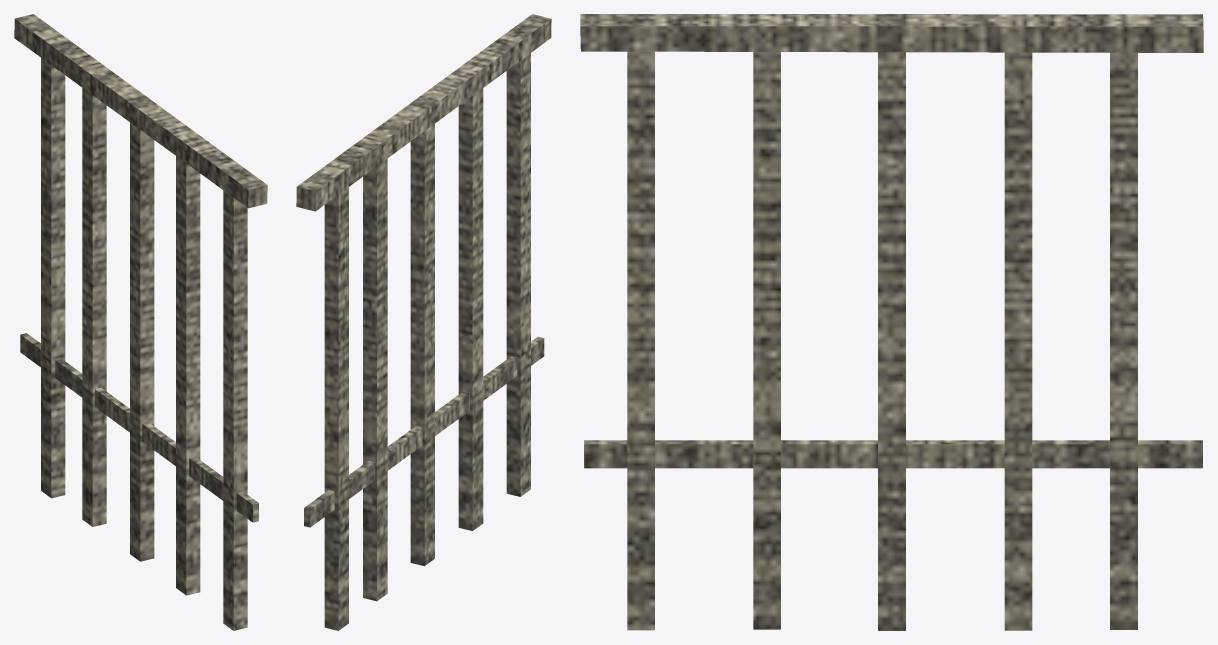
Rendered from Acosta_I_Fence.fbx.
3 views of the same model, side by side, from view 1: azimuth 30°, elevation 25°; view 2: azimuth 150°, elevation 25°; view 3: azimuth 270°, elevation 25° (orthographic). The views are drawn at different scales.
Visible parts, largest first — view 1: Cube; view 2: Cube; view 3: Cube.
Boxes of the visible parts, x1=… form: Cube: x1=14, y1=14, x2=267, y2=630; Cube: x1=296, y1=14, x2=551, y2=630; Cube: x1=580, y1=14, x2=1203, y2=630.
Size of the model in its own units: 42.63 by 975 by 910.
1 material, 1 textured.
